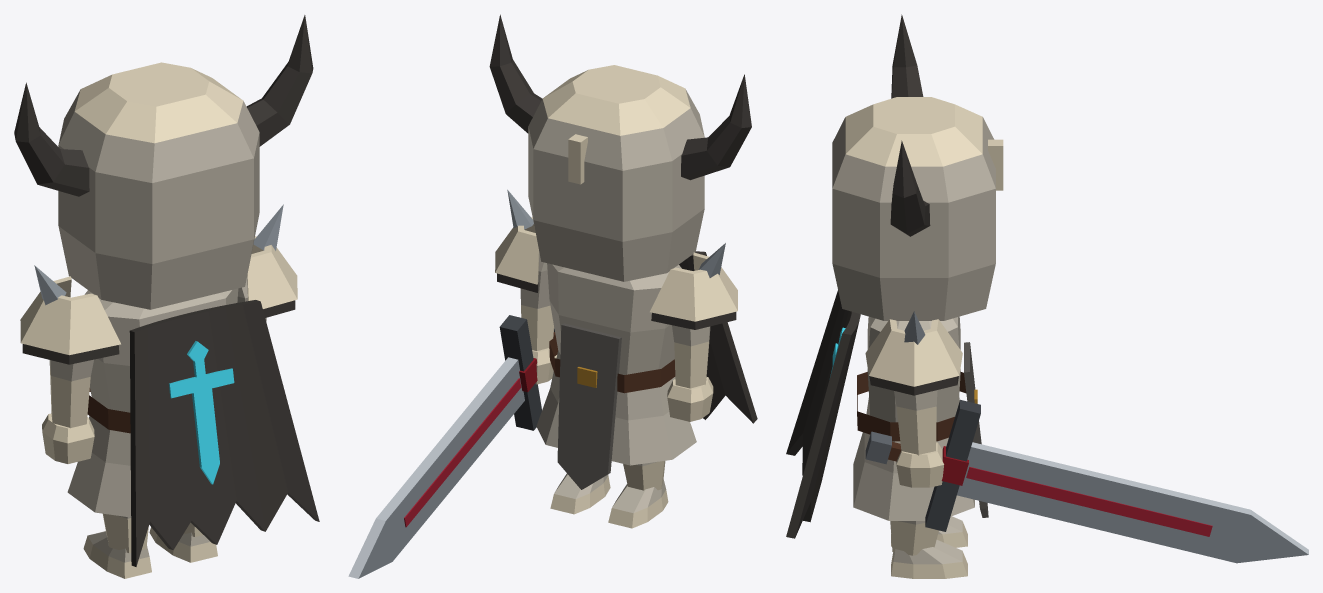
File: CH_BloodKnight_AshenKnight.fbx
The picture shows the model from 3 angles, left to right: view 1: azimuth 30°, elevation 25°; view 2: azimuth 150°, elevation 25°; view 3: azimuth 270°, elevation 25°; orthographic projection. The views are drawn at different scales.
Visible parts, largest first — view 1: Body, Head, ArmL, LegL, LegR; view 2: Head, Body, ArmR, ArmL, LegL, LegR; view 3: Head, ArmR, Body, LegR, LegL.
Boxes of the visible parts, x1,y1,x2,y2 form: Body: (20, 204, 319, 566); Head: (14, 15, 313, 309); ArmL: (42, 359, 94, 463); LegL: (83, 513, 151, 578); LegR: (149, 522, 217, 562); Head: (489, 14, 751, 281); Body: (495, 189, 757, 489); ArmR: (348, 253, 556, 578); ArmL: (667, 325, 713, 421); LegL: (608, 461, 668, 528); LegR: (550, 473, 610, 514); Head: (832, 14, 1003, 320); ArmR: (865, 390, 1308, 563); Body: (786, 290, 988, 538); LegR: (890, 521, 967, 578); LegL: (891, 516, 967, 547).
Size of the model in its own units: 1.1 by 1.81 by 1.82.
